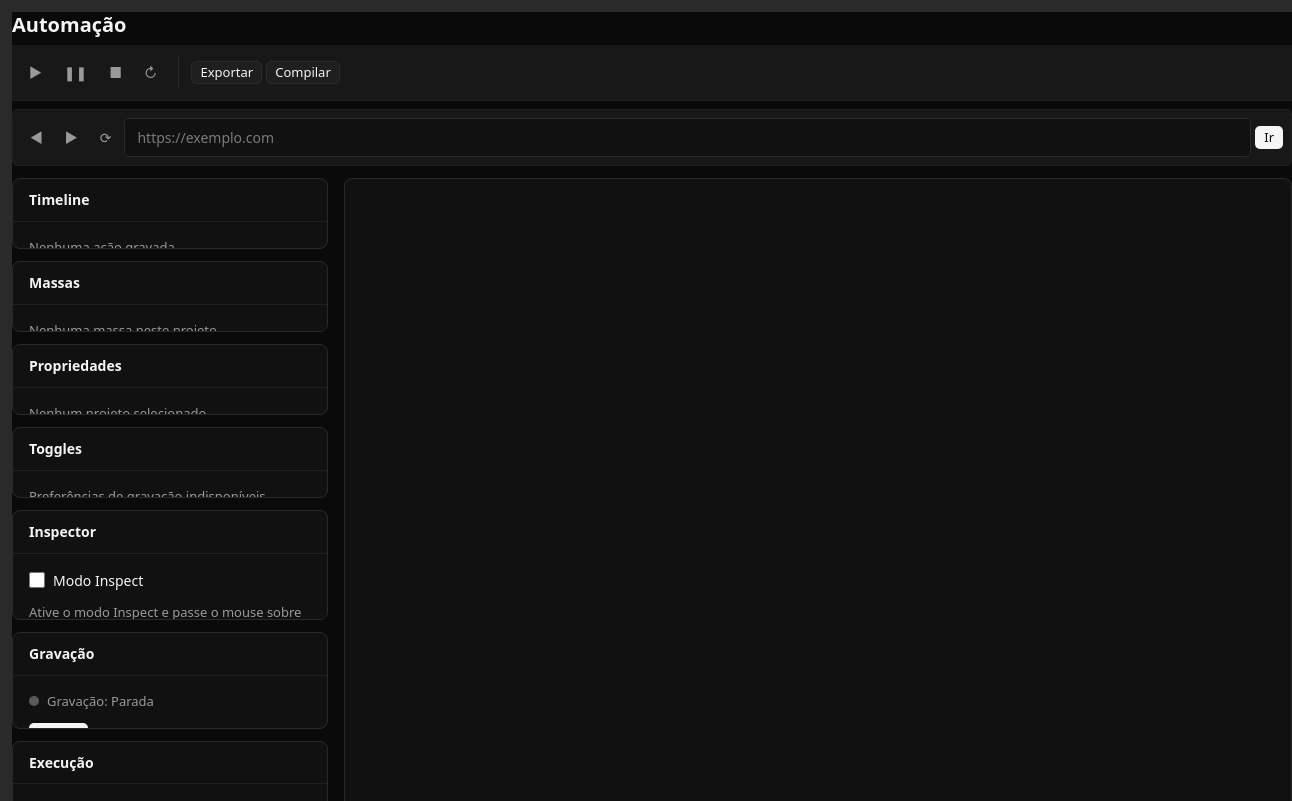
Scenario: AutomationView (PRD §9, §15) › warns when there is no active project to run
The width and height of the screenshot is (1292, 801).
Step 1. Click the button named "Play" → x=35, y=72, box [20,53,51,92]
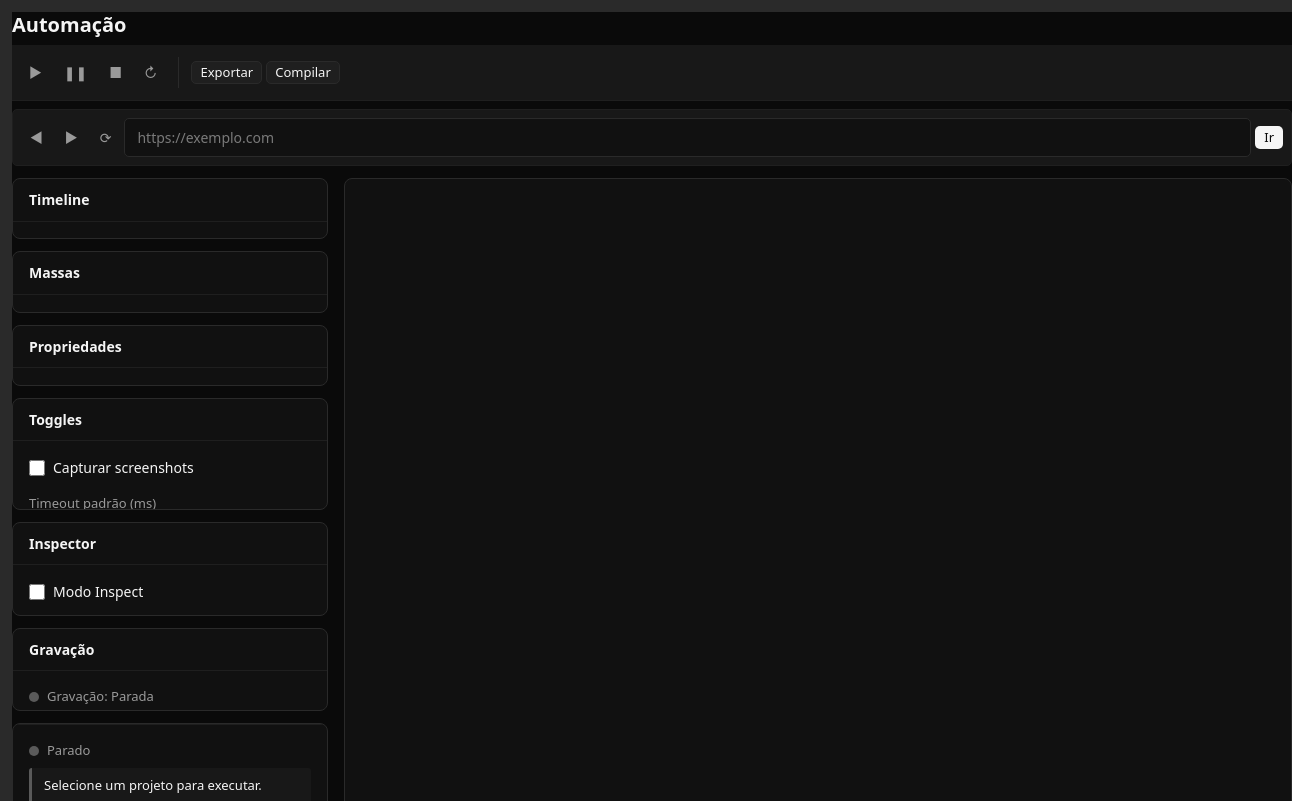
Result: the message shows "Selecione um projeto" at [44,776,262,794]
